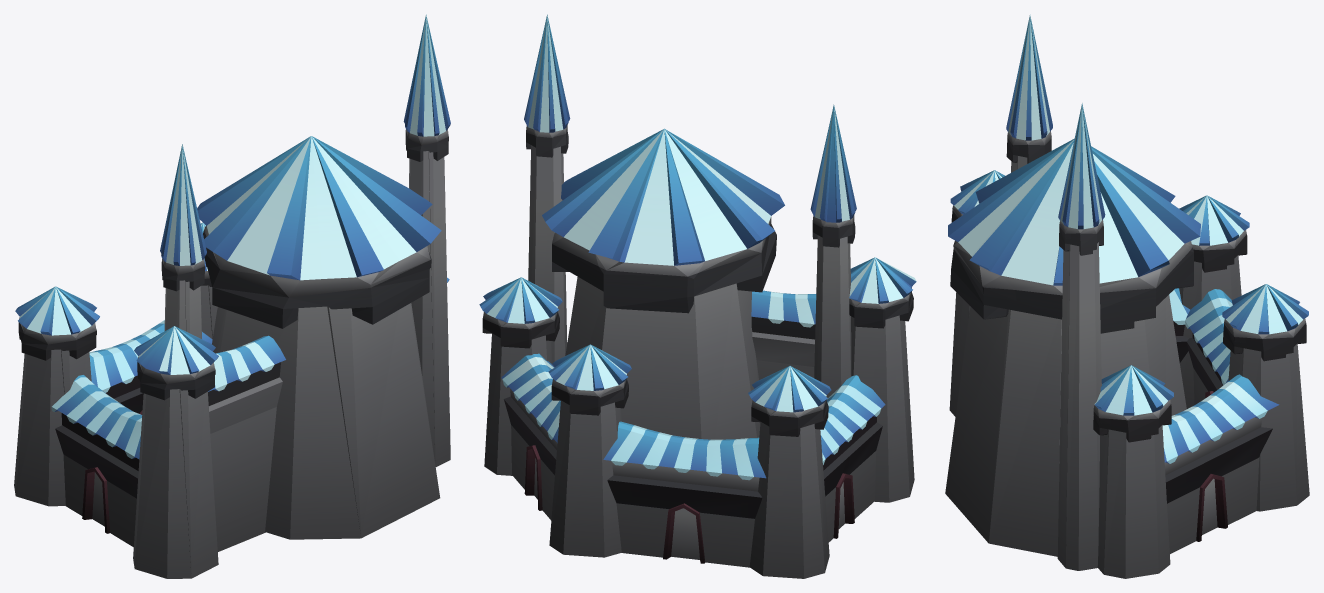
The model's file is castle_mdl.FBX.
The picture shows the model from 3 angles, left to right: view 1: azimuth 30°, elevation 25°; view 2: azimuth 150°, elevation 25°; view 3: azimuth 270°, elevation 25°; orthographic projection. The views are drawn at different scales.
Parts seen in each view (by area): view 1: castle_mdl; view 2: castle_mdl; view 3: castle_mdl.
Part boxes in pixels (<box>): castle_mdl: <box>14,14,450,578</box>; castle_mdl: <box>479,14,916,578</box>; castle_mdl: <box>945,14,1309,578</box>.
Bounding box in the file's own units: 2317 × 2534 × 1828.
